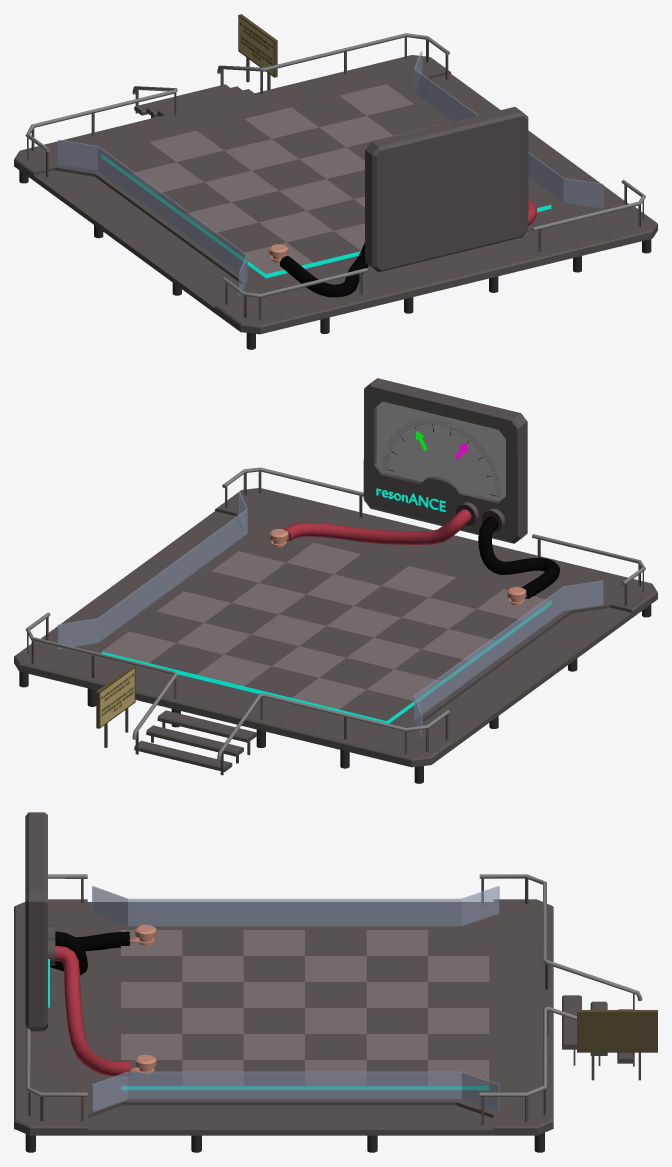
Rendered from DanceFloor.glb.
3 renders of one model, top to bottom at view 1: azimuth 30°, elevation 25°; view 2: azimuth 150°, elevation 25°; view 3: azimuth 270°, elevation 25°, orthographic. The views are drawn at different scales.
Visible parts, largest first — view 1: Floor, HypeMeter, squares2, squares1, glass, front_railing, sign, rightwire, back_railing, supports, squaresborder; view 2: Floor, squares2, squares1, HypeMeter, glass, HypeMeterScreen, leftwire, front_railing, rightwire, sign, squaresborder, back_railing (+1 smaller); view 3: Floor, squares2, squares1, glass, HypeMeter, sign, leftwire, front_railing, squaresborder, rightwire, back_railing, supports.
Part boxes in pixels (left/top/right/bottom): Floor: left=14, top=37, right=657, bottom=334; HypeMeter: left=365, top=107, right=528, bottom=272; squares2: left=102, top=96, right=550, bottom=262; squares1: left=130, top=84, right=441, bottom=273; glass: left=57, top=51, right=603, bottom=296; front_railing: left=25, top=33, right=449, bottom=152; sign: left=238, top=14, right=277, bottom=89; rightwire: left=280, top=243, right=368, bottom=297; back_railing: left=222, top=179, right=645, bottom=297; supports: left=19, top=170, right=651, bottom=349; squaresborder: left=101, top=154, right=551, bottom=278; Floor: left=14, top=471, right=657, bottom=775; squares2: left=129, top=531, right=522, bottom=720; squares1: left=102, top=542, right=550, bottom=709; HypeMeter: left=363, top=378, right=527, bottom=543; glass: left=57, top=492, right=603, bottom=737; HypeMeterScreen: left=376, top=401, right=505, bottom=500; leftwire: left=284, top=509, right=471, bottom=544; front_railing: left=25, top=612, right=449, bottom=760; rightwire: left=478, top=516, right=559, bottom=598; sign: left=96, top=665, right=135, bottom=747; squaresborder: left=101, top=601, right=551, bottom=723; back_railing: left=222, top=467, right=645, bottom=585; Floor: left=14, top=878, right=634, bottom=1135; squares2: left=121, top=930, right=489, bottom=1085; squares1: left=121, top=930, right=489, bottom=1085; glass: left=92, top=886, right=499, bottom=1111; HypeMeter: left=25, top=812, right=55, bottom=1031; sign: left=577, top=1010, right=657, bottom=1080; leftwire: left=55, top=945, right=130, bottom=1076; front_railing: left=479, top=874, right=642, bottom=1096; squaresborder: left=121, top=1086, right=488, bottom=1089; rightwire: left=50, top=931, right=129, bottom=975; back_railing: left=26, top=874, right=87, bottom=1096; supports: left=25, top=1132, right=544, bottom=1152.
Size of what is drawn, in the model's own units: 24 by 9.4 by 28.64.
11 materials, 3 textured.
